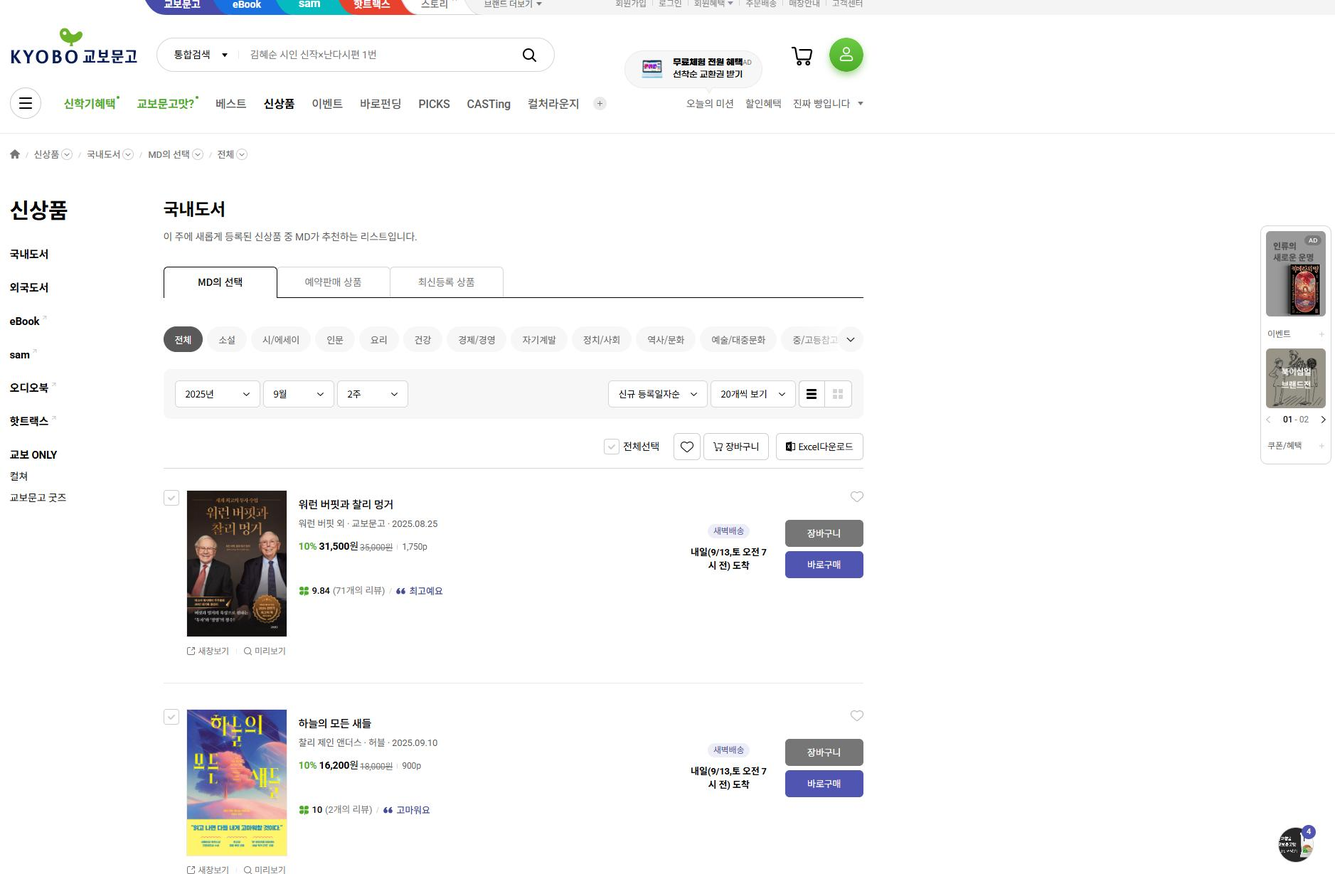button: (1259, 233, 1324, 314), (155, 265, 276, 301), (1267, 348, 1329, 409), (788, 519, 869, 550), (397, 265, 495, 290), (511, 87, 593, 115), (1, 411, 77, 441), (283, 269, 373, 294), (784, 555, 867, 582), (705, 326, 782, 353), (780, 431, 864, 455), (6, 231, 71, 262), (788, 741, 864, 767), (708, 430, 768, 460), (509, 324, 571, 348), (59, 91, 121, 115), (639, 331, 696, 357), (6, 371, 65, 396), (449, 326, 510, 350), (7, 271, 63, 297), (133, 95, 196, 117), (13, 446, 82, 466), (7, 306, 58, 332), (210, 324, 255, 353), (413, 91, 458, 120), (8, 492, 72, 512), (789, 774, 859, 792), (160, 325, 203, 353), (795, 329, 846, 352), (202, 96, 250, 119), (459, 96, 519, 114), (258, 327, 311, 347), (684, 98, 746, 115), (578, 326, 628, 347), (827, 41, 864, 69), (408, 322, 442, 351), (354, 91, 396, 113), (5, 346, 58, 362), (250, 96, 298, 113), (315, 333, 354, 353), (308, 96, 349, 115), (804, 100, 855, 115), (748, 100, 792, 114), (671, 436, 697, 458), (365, 332, 395, 351), (786, 56, 820, 72), (8, 473, 39, 482)
checkbox: (608, 378, 712, 407), (181, 382, 257, 411), (716, 385, 810, 405), (262, 385, 340, 409), (338, 384, 404, 404), (30, 146, 69, 169), (151, 145, 207, 161), (606, 437, 653, 453), (84, 148, 134, 161), (228, 151, 258, 162)
input_field: (167, 37, 560, 69)
